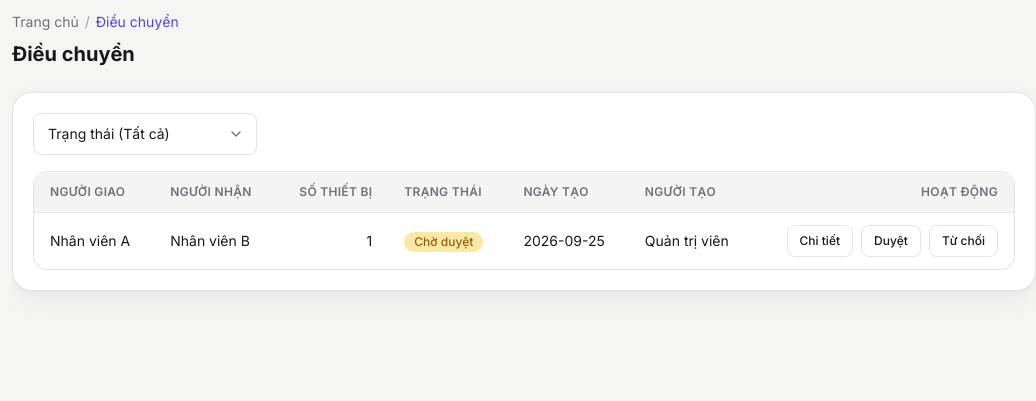
Test: TP Kỹ thuật lọc "Đã xóa": Dọn thùng rác gửi ids đang hiện, báo số đã xoá
Expected: the text "Nhân viên A" is shown, [34,212,154,269]
Expected: the button "Dọn thùng rác" is not shown
Select "Đã xóa" in the dropdown named "Lọc trạng thái". click: {"x": 145, "y": 134}
box: [33,113,257,155]
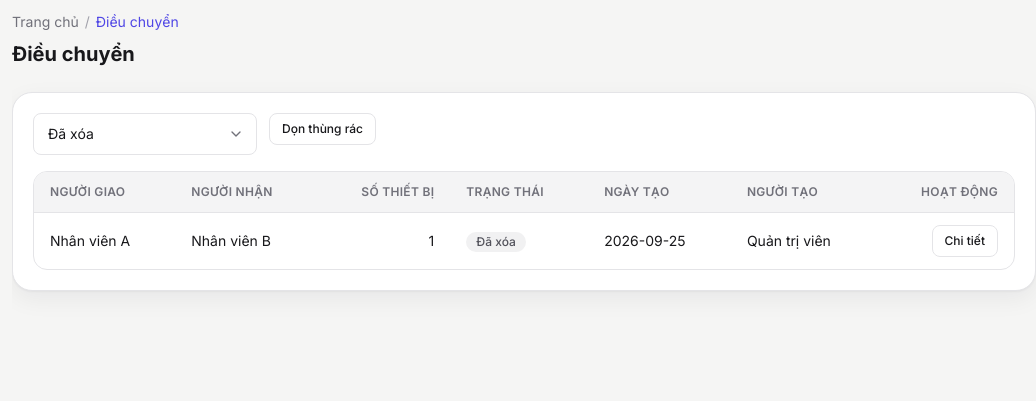
Click the button "Dọn thùng rác". click: {"x": 322, "y": 129}
box: [269,113,376,145]
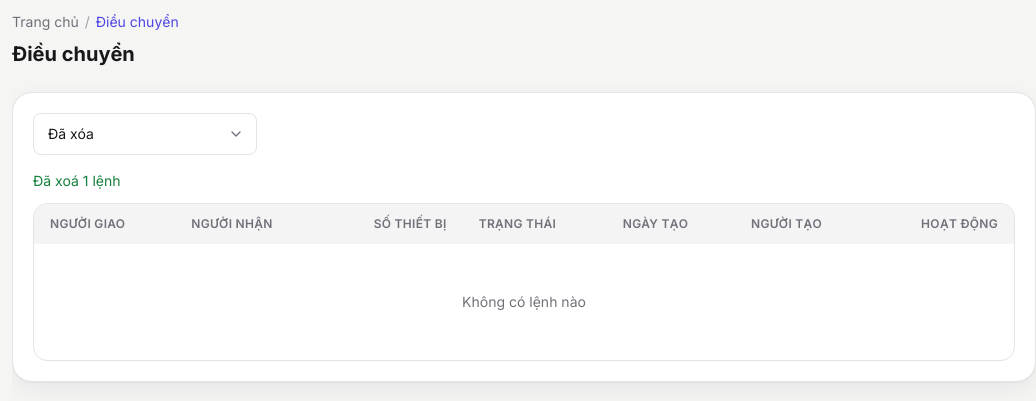
Expected: the text "Đã xoá 1 lệnh" is shown, [33,172,120,189]
